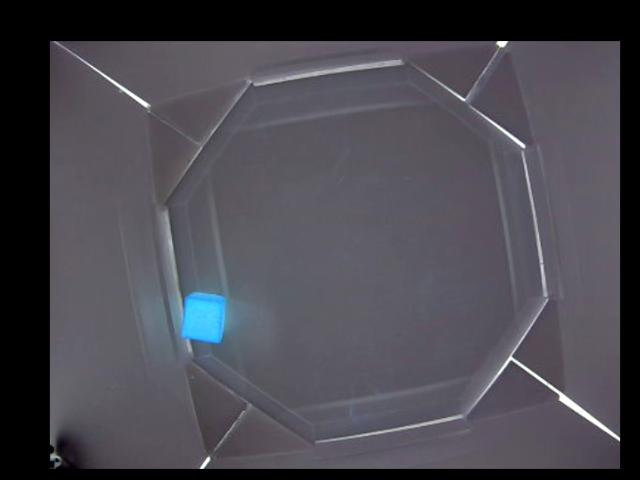Carrot: (178, 293, 228, 343)
